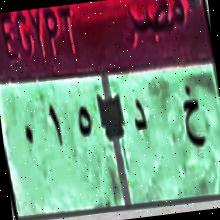0: (20, 117, 40, 159)
1: (42, 97, 68, 154)
5: (72, 97, 101, 148)
daal: (126, 90, 154, 142)
khaa: (172, 78, 212, 161)
